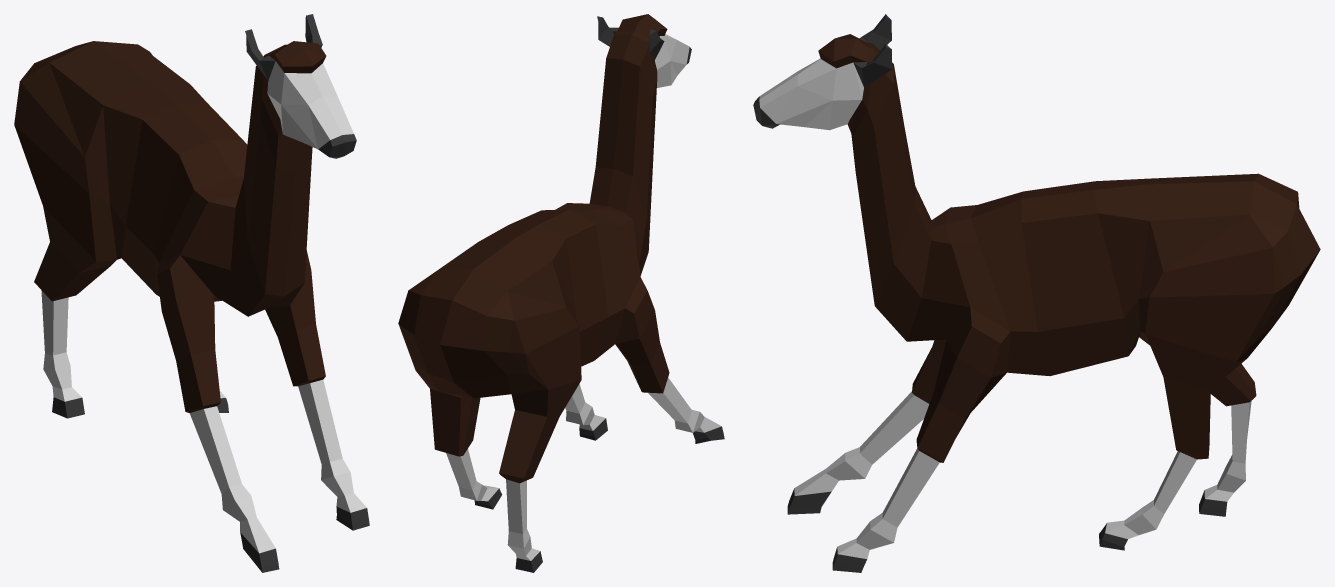
The model's file is Llama__1_000020.obj.
3 renders of one model, left to right at view 1: azimuth 30°, elevation 25°; view 2: azimuth 150°, elevation 25°; view 3: azimuth 270°, elevation 25°, orthographic. The views are drawn at different scales.
Parts seen in each view (by area): view 1: Llama_Cylinder; view 2: Llama_Cylinder; view 3: Llama_Cylinder.
Boxes of the visible parts, x1,y1,x2,y2 form: Llama_Cylinder: (14, 14, 369, 572); Llama_Cylinder: (398, 14, 724, 572); Llama_Cylinder: (753, 14, 1320, 572).
Bounding box in the file's own units: 1.56 × 5.13 × 5.17.
